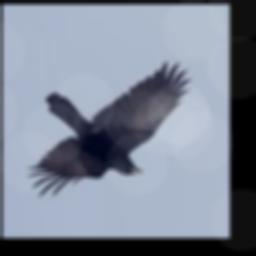Crow: (26, 63, 189, 197)
